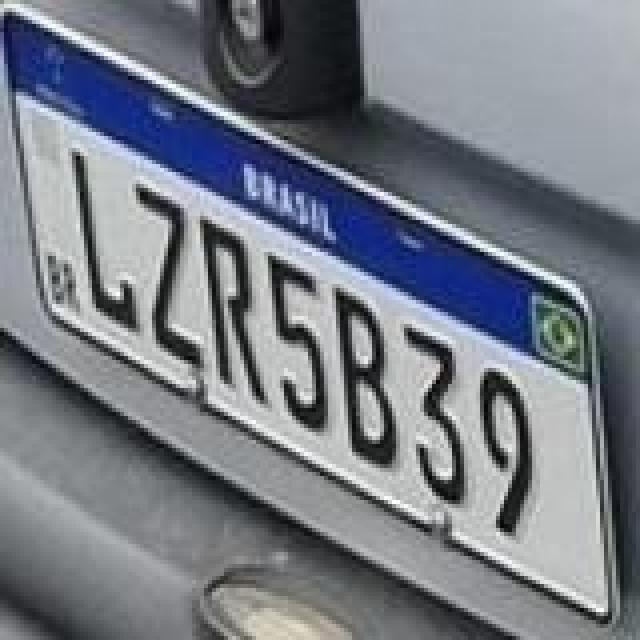3: (398, 320, 466, 512)
5: (262, 252, 330, 436)
9: (472, 358, 536, 538)
B: (328, 282, 400, 470)
L: (68, 146, 140, 334)
R: (196, 216, 268, 408)
Z: (130, 176, 206, 368)
